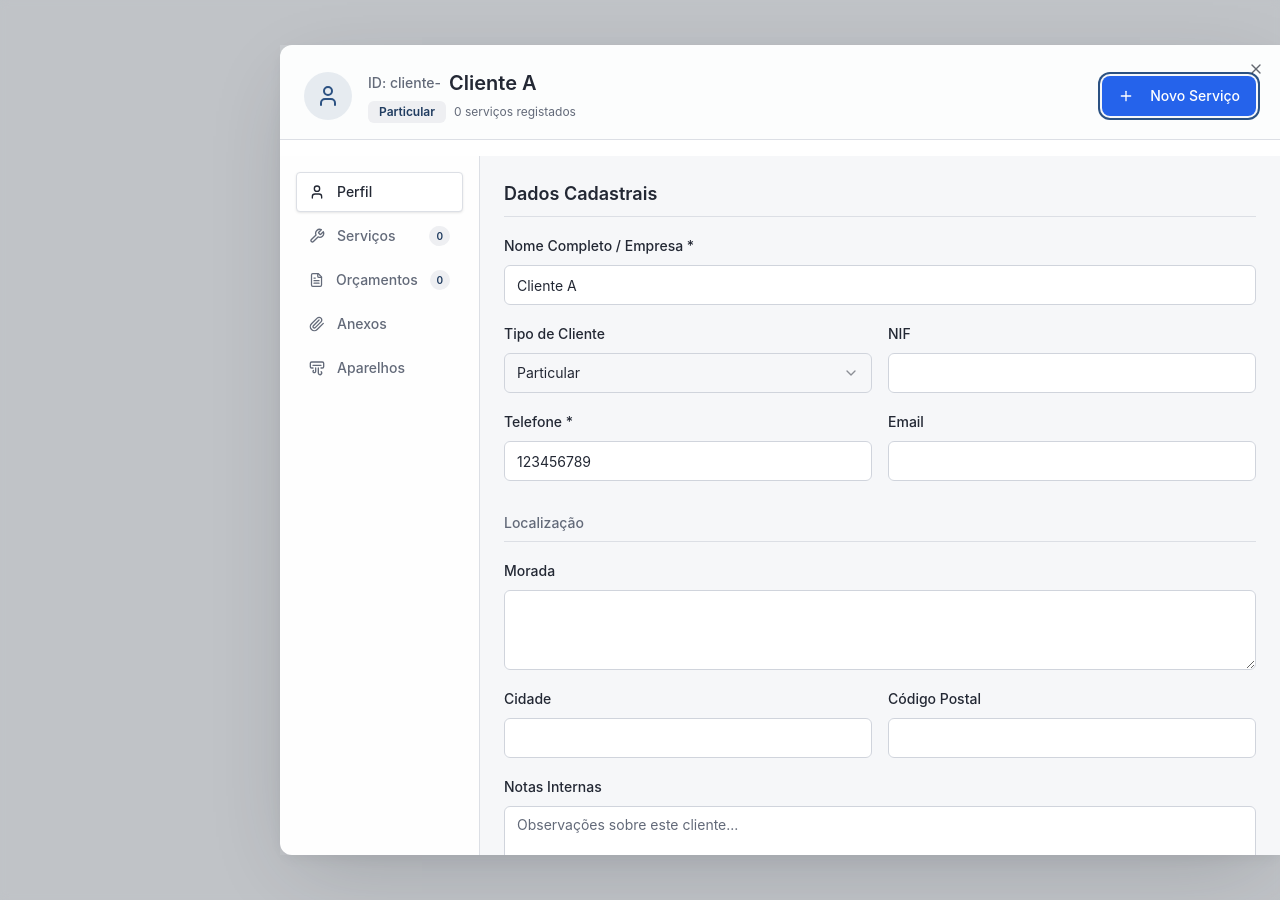
Test: Edição de aparelhos por cliente › limpa os campos ao cancelar e permite adicionar um aparelho sem dados antigos
The image size is (1280, 900).
Press the mouse on the tab "Aparelhos" at (380, 368), box [296, 348, 463, 388]
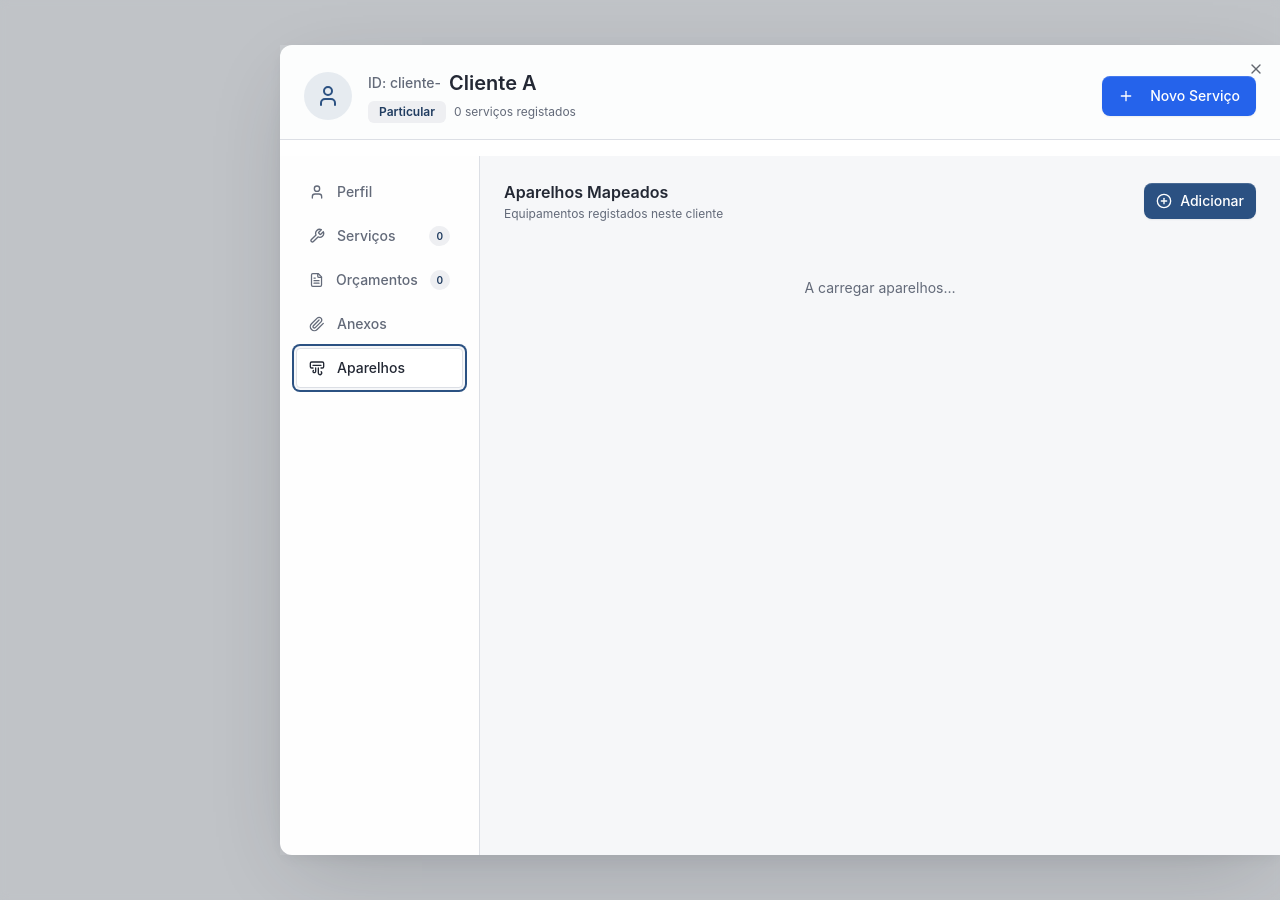
Click the tab "Aparelhos".
click(380, 368)  # box [296, 348, 463, 388]
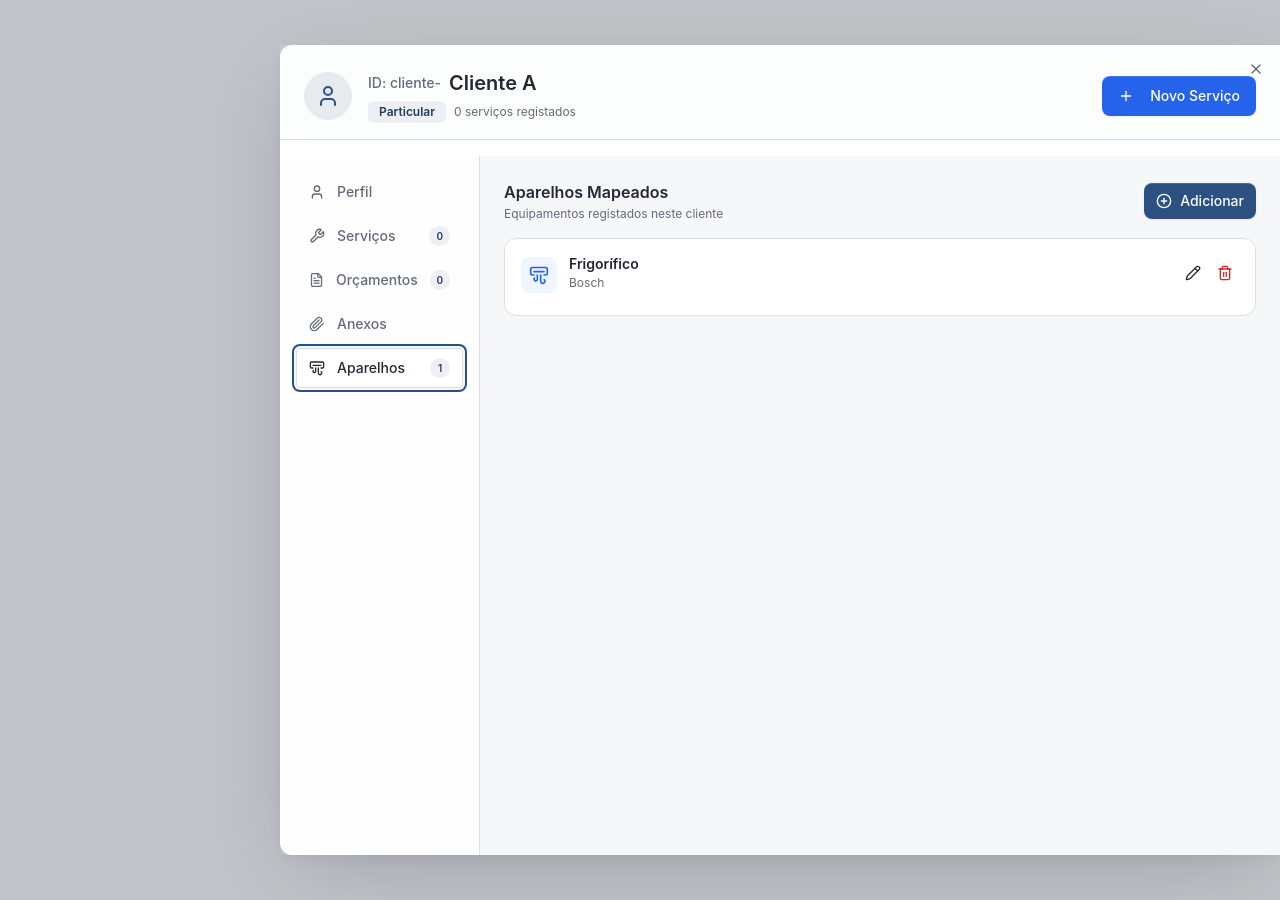
Click the button named "Editar aparelho Frigorífico".
click(1193, 273)  # box [1179, 255, 1207, 291]
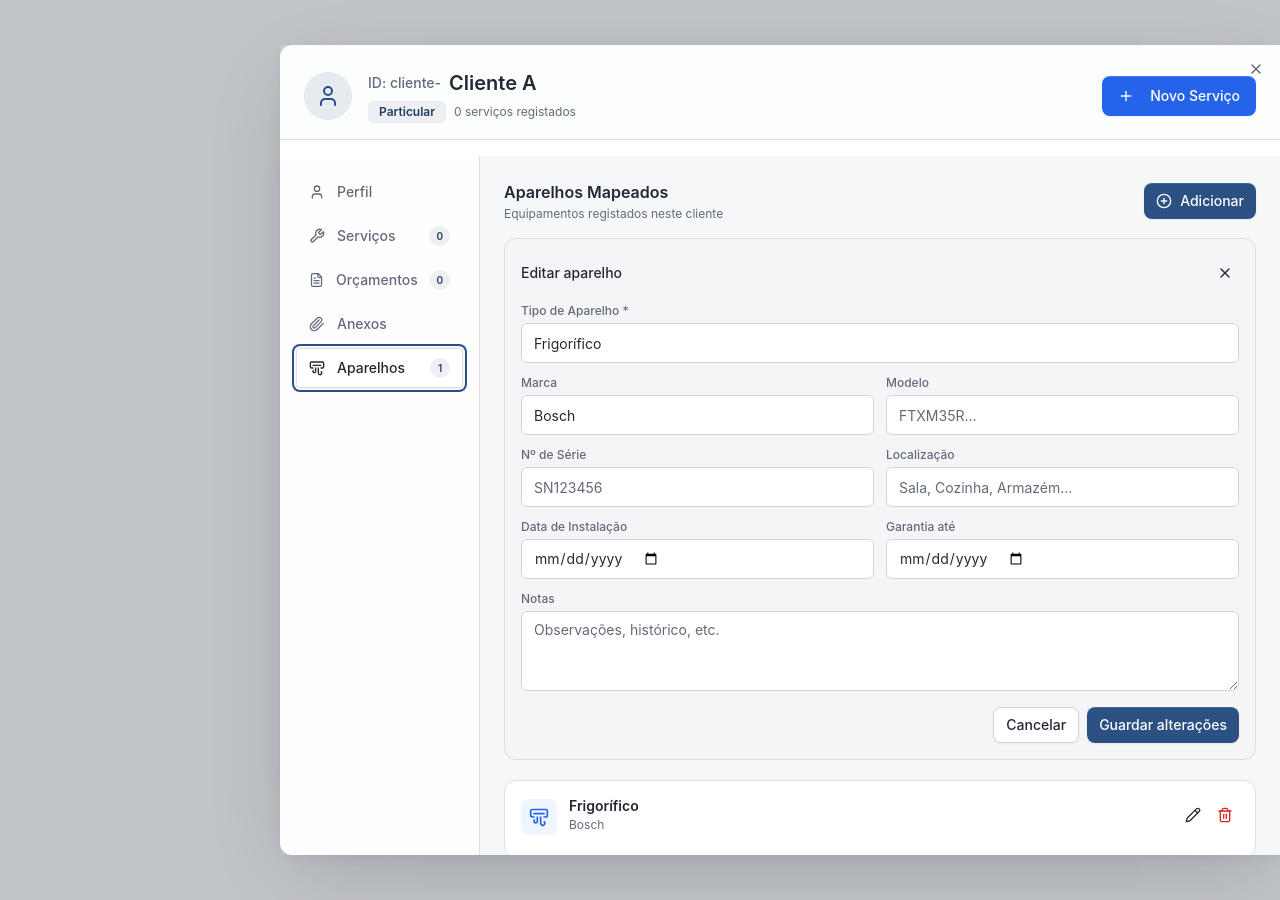
Result: the field showing "Bosch" below "Marca" is shown at [521, 395, 874, 435]
Click the button "Cancelar".
click(1036, 725)  # box [993, 707, 1079, 743]
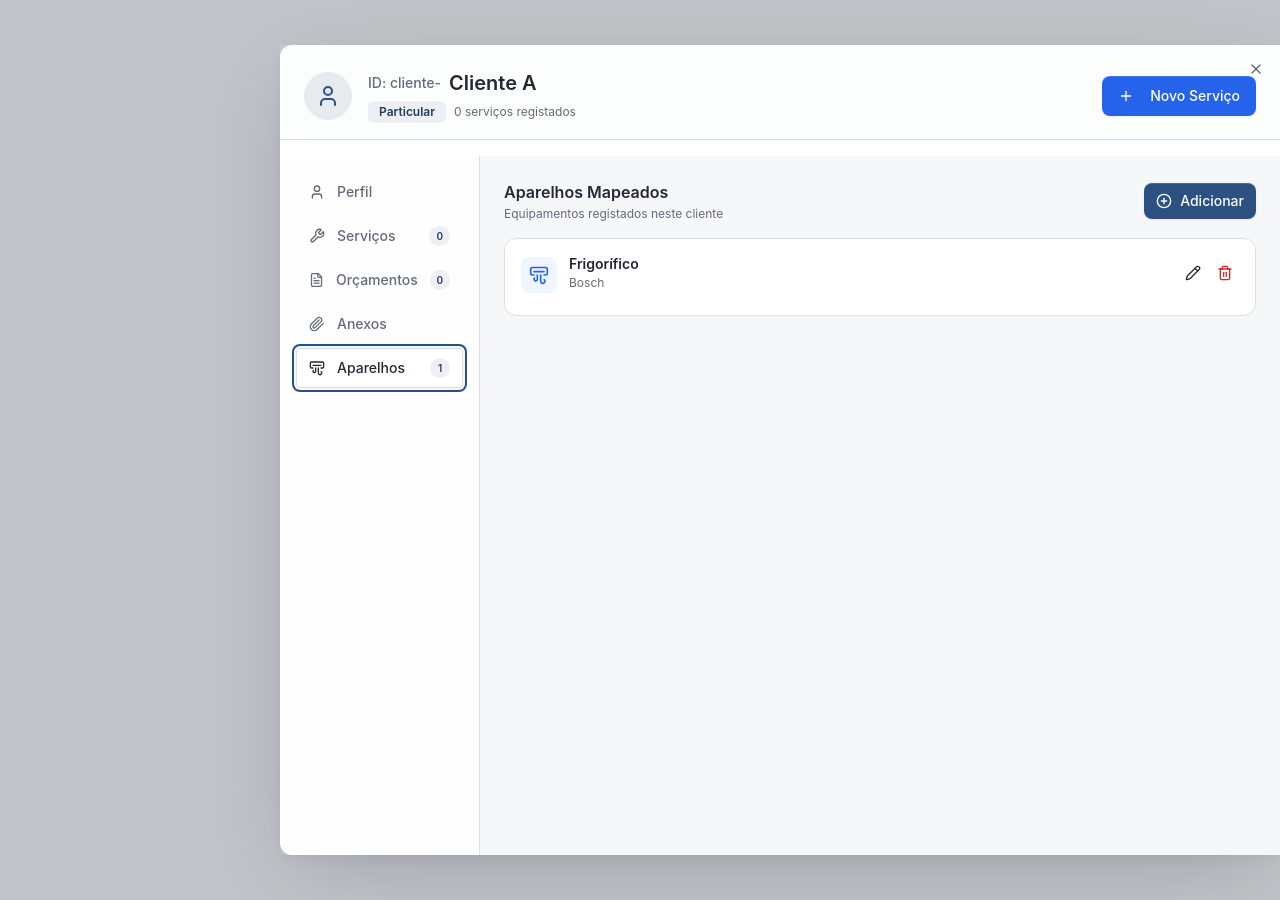
Click the button "Adicionar".
click(1200, 201)  # box [1144, 183, 1256, 219]
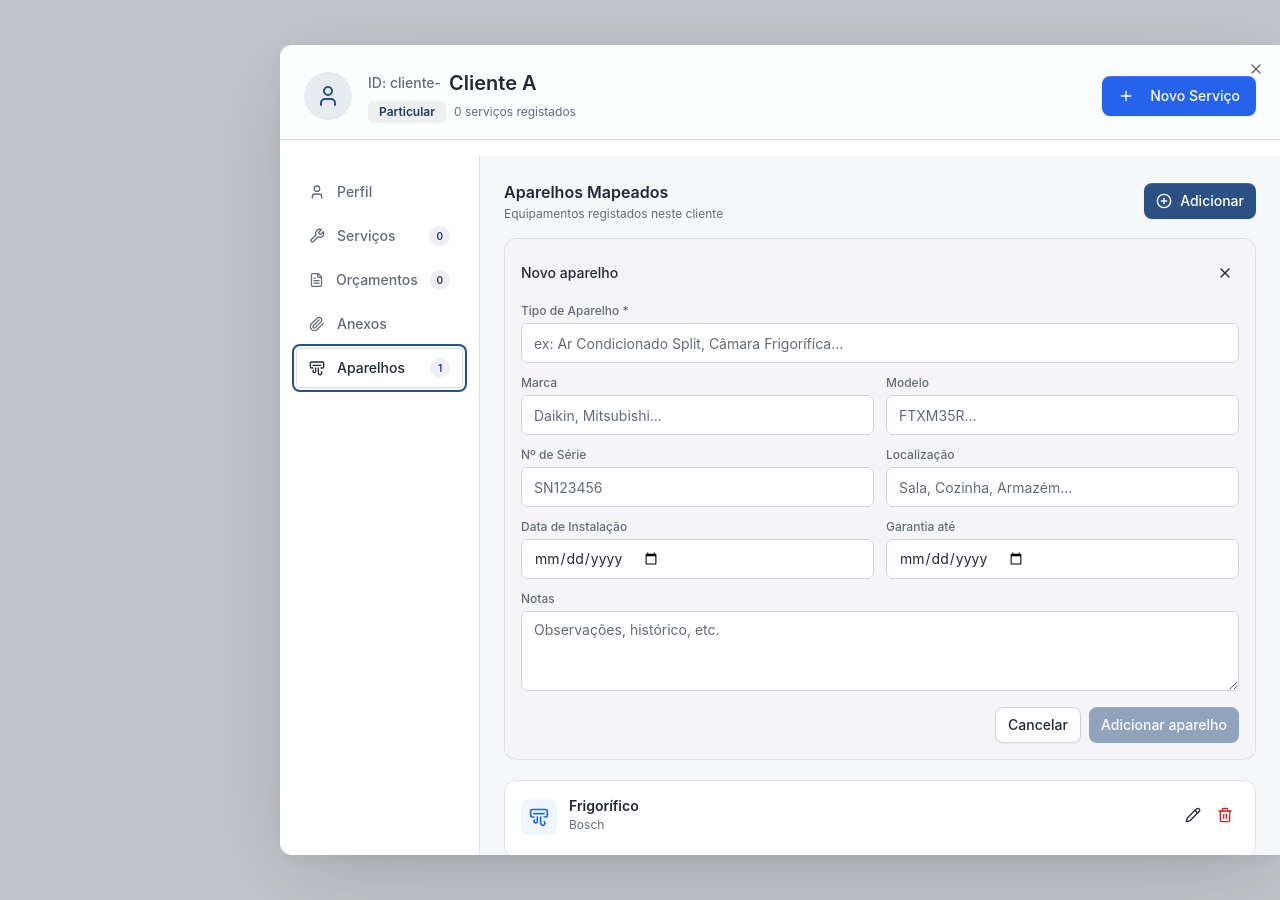
Result: the field with placeholder "Daikin, Mitsubishi…" is empty at [521, 395, 874, 435]
Result: the field with placeholder "FTXM35R…" is empty at [886, 395, 1239, 435]
Result: the button "Adicionar aparelho" is disabled at [1089, 707, 1239, 743]
